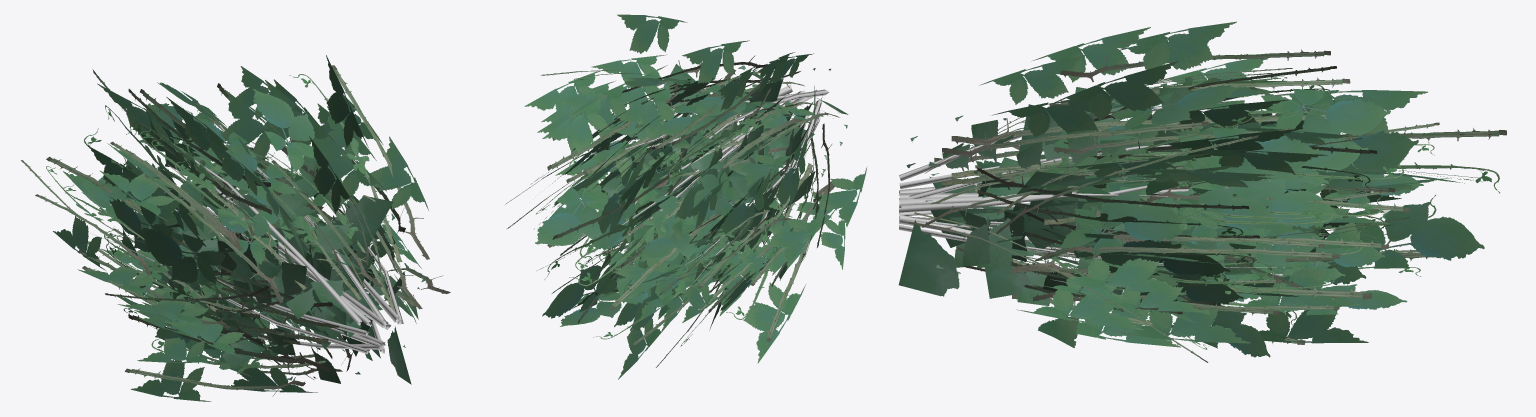
Rendered from Bush_0033.FBX.
The picture shows the model from 3 angles, left to right: view 1: azimuth 30°, elevation 25°; view 2: azimuth 150°, elevation 25°; view 3: azimuth 270°, elevation 25°; orthographic projection. The views are drawn at different scales.
Parts seen in each view (by area): view 1: plant3_LOD0; view 2: plant3_LOD0; view 3: plant3_LOD0.
Boxes of the visible parts, x1,y1,x2,y2 form: plant3_LOD0: (21,55,450,401); plant3_LOD0: (505,14,867,379); plant3_LOD0: (898,21,1506,362).
Bounding box in the file's own units: 29.99 × 47.17 × 31.14.
